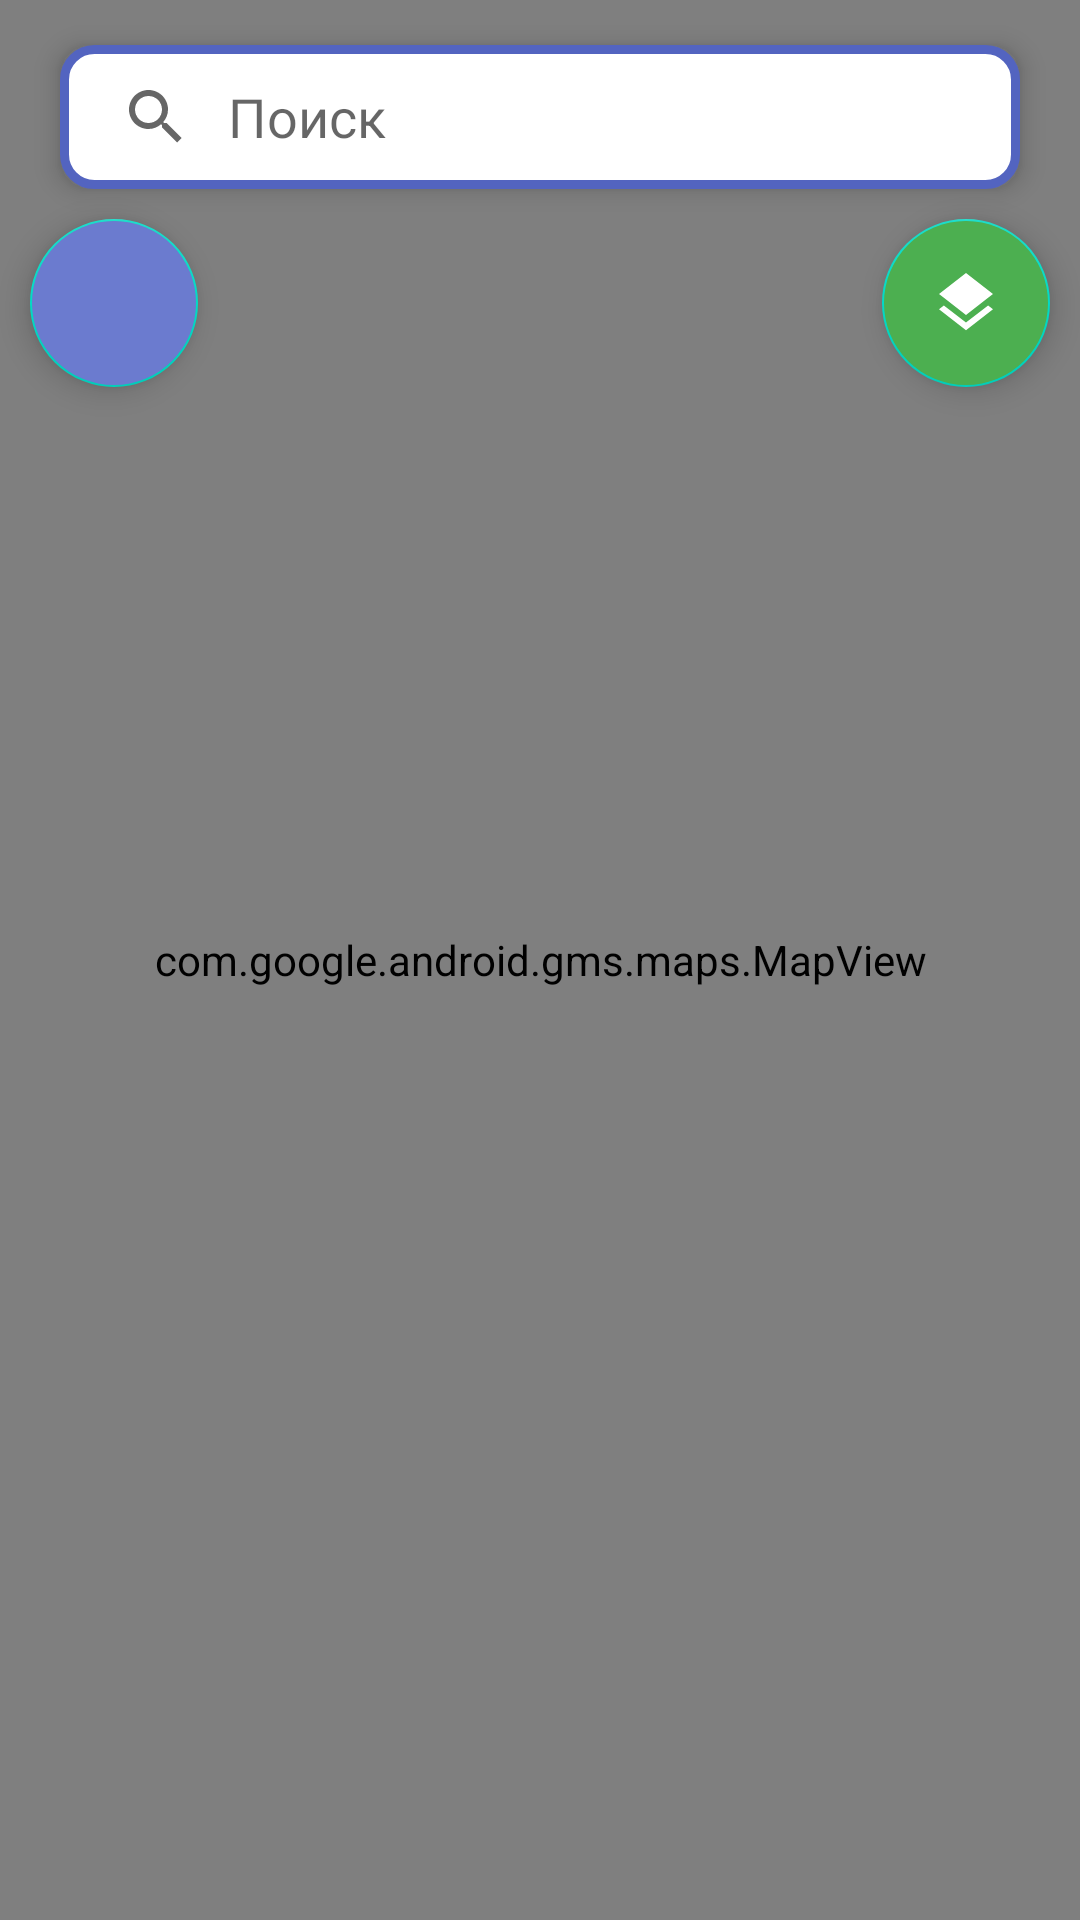

Icon click points for this 1080x1920 phone screenshot, format (x,y):
layers: (966,303)
